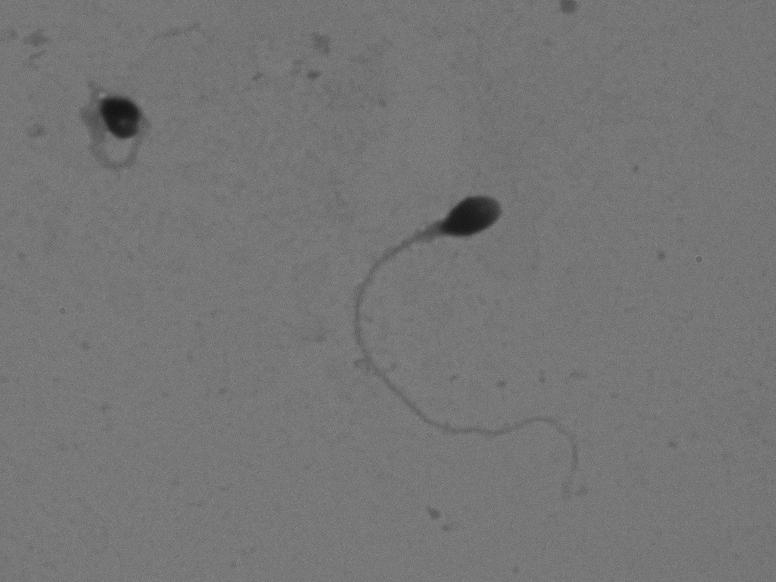Abnormal: (291, 164, 627, 504), (48, 62, 201, 195)
